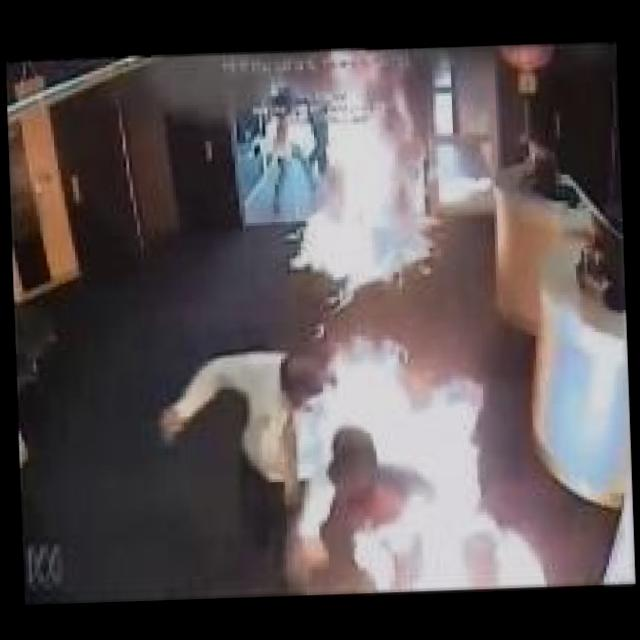fire: (284, 317, 536, 594), (260, 48, 450, 312)
